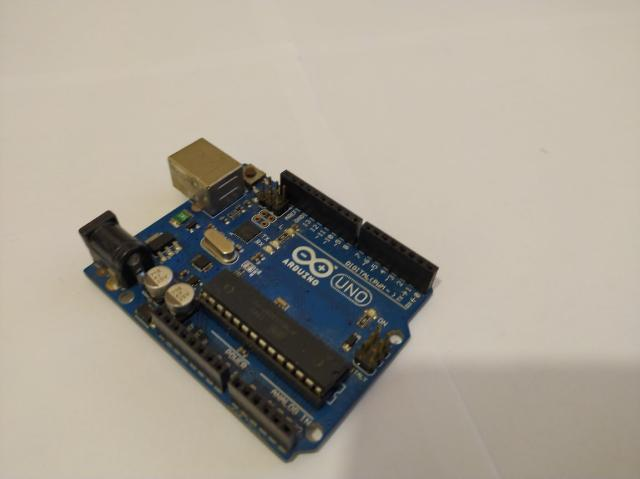arduino: (78, 138, 440, 464)
